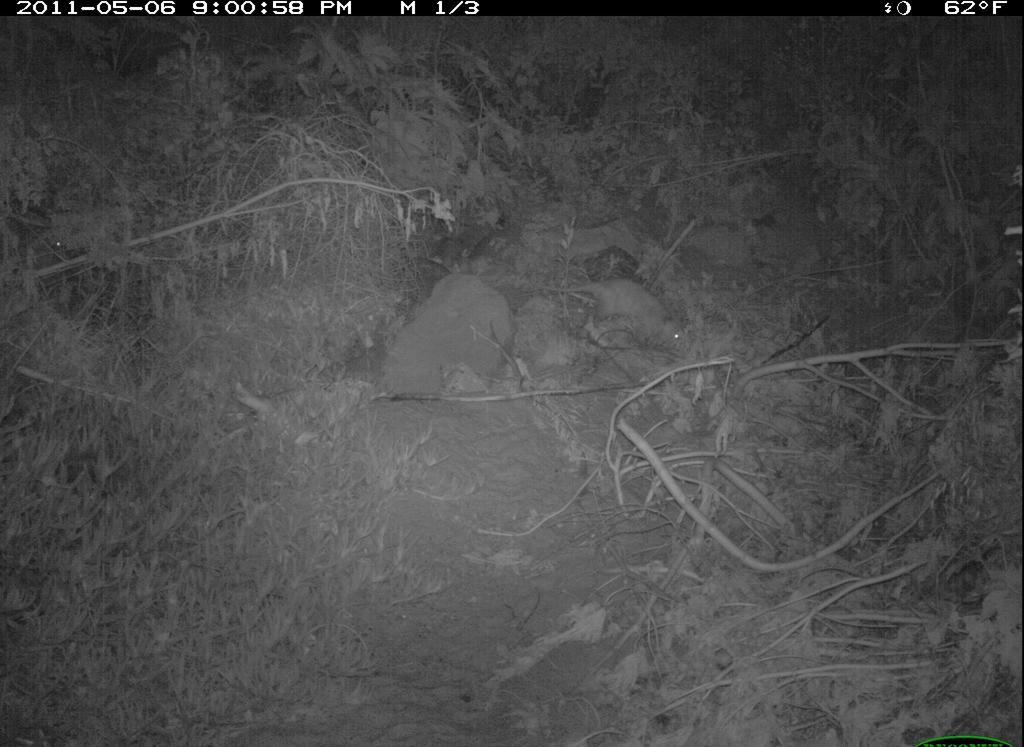opossum: (561, 262, 702, 367)
